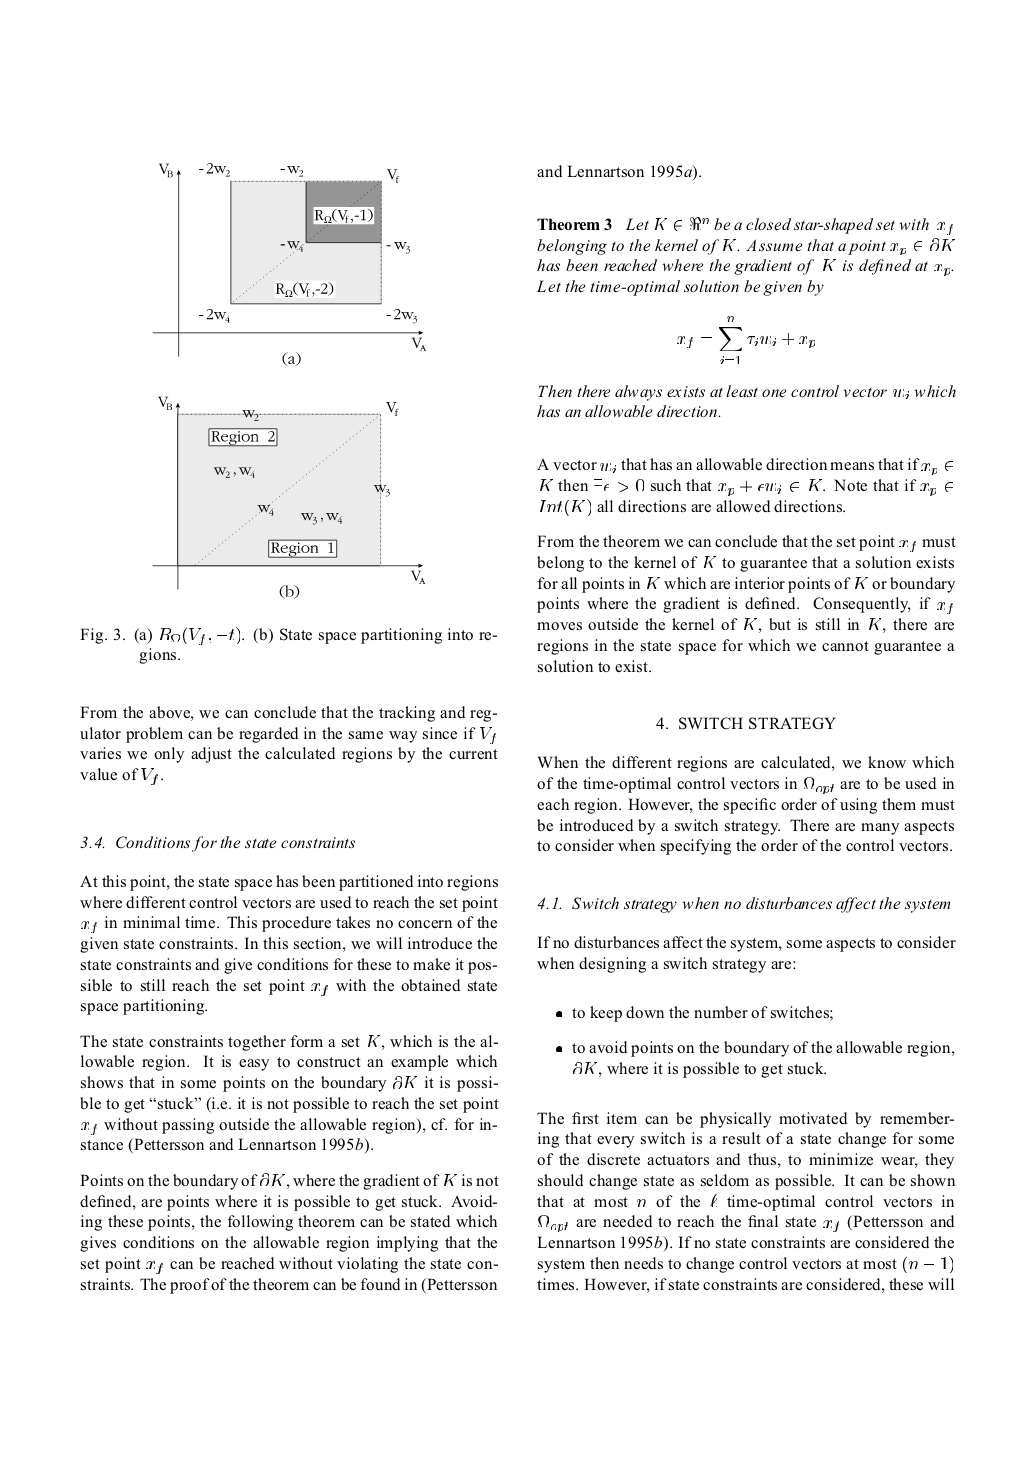figure: (152, 162, 426, 366), (152, 395, 425, 599)
formula: (677, 316, 815, 363)
